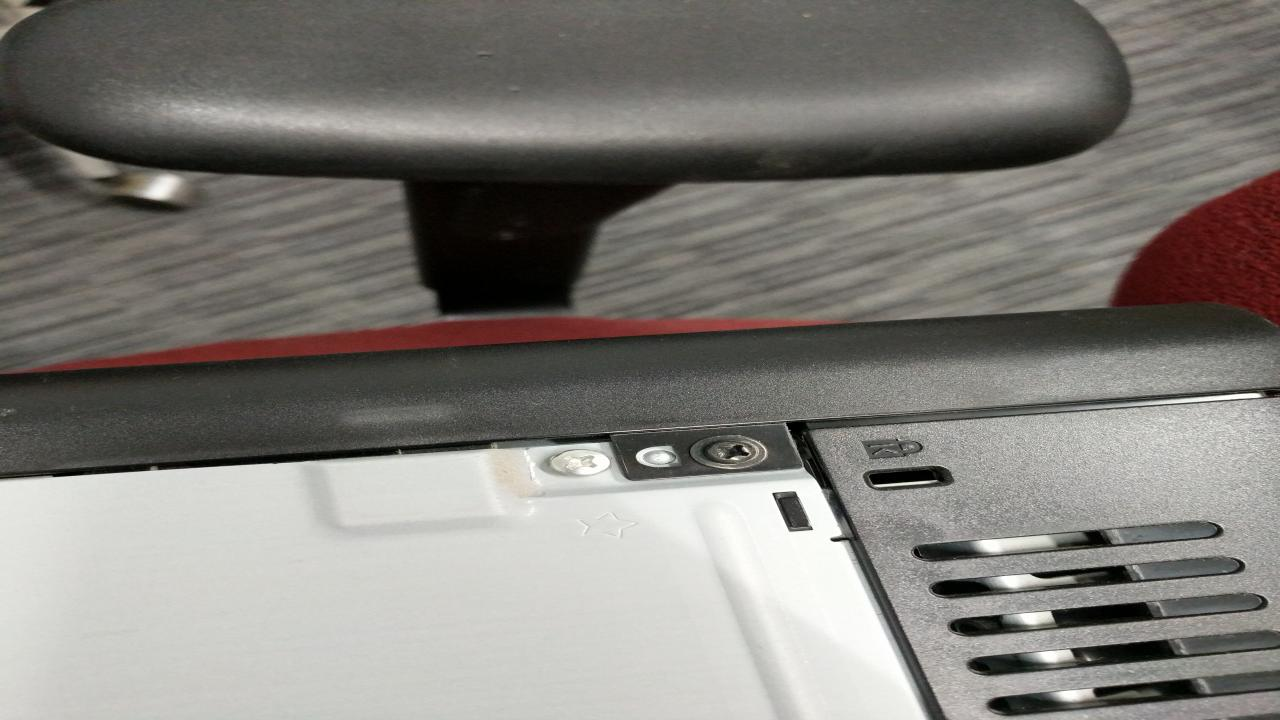CRS: (544, 448, 614, 474), (705, 441, 759, 463)
